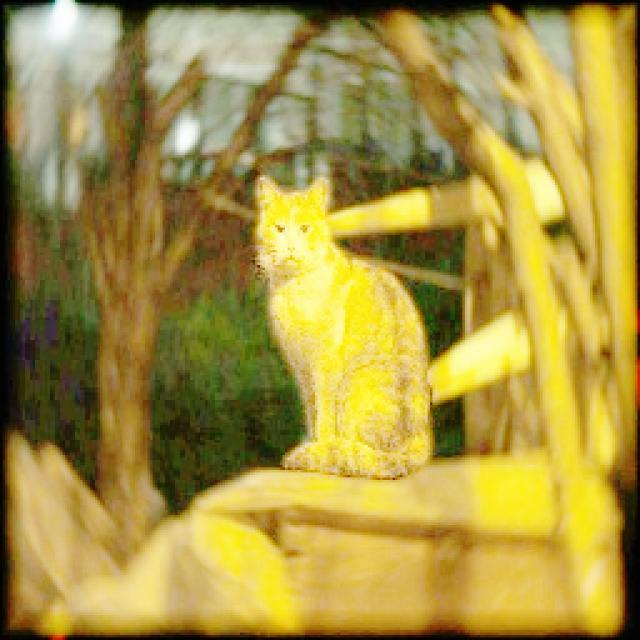cat: (212, 152, 468, 494)
